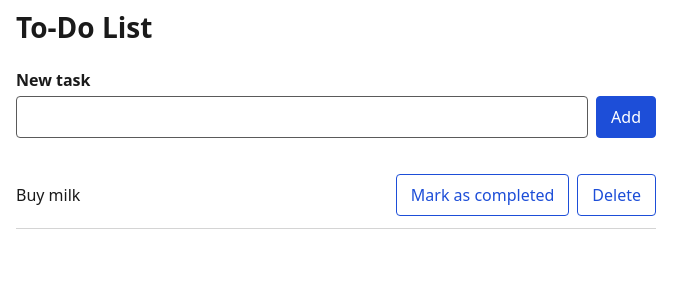
Scenario: TaskListPage — US2 mark as completed › FR-014 (T051): a failed complete (500) shows the message and the task stays not completed
Click the button named "Mark as completed: Buy milk" at (483, 195), box [396, 174, 569, 216]
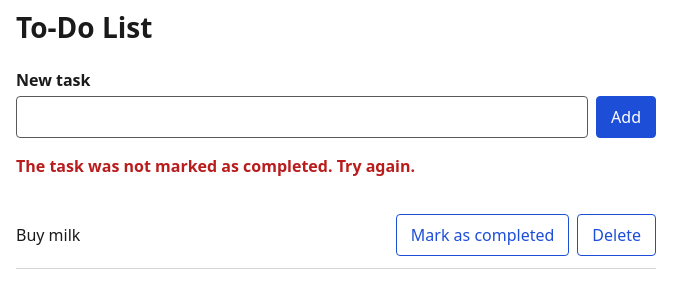
Expected: the button named "Mark as completed: Buy milk" is shown, [396, 214, 569, 256]
Expected: the text with test id "error-message" reads "The task was not marked as completed. Try again.", [16, 155, 415, 177]
